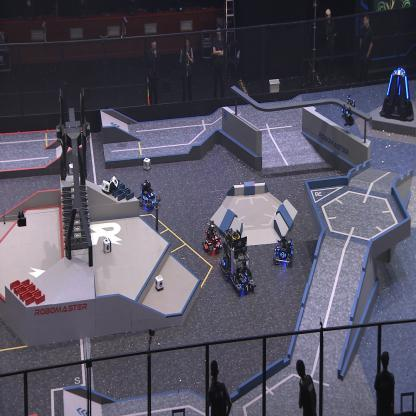car: (229, 234, 256, 294), (219, 227, 242, 279), (201, 223, 222, 254), (273, 234, 294, 265), (138, 180, 158, 210)
